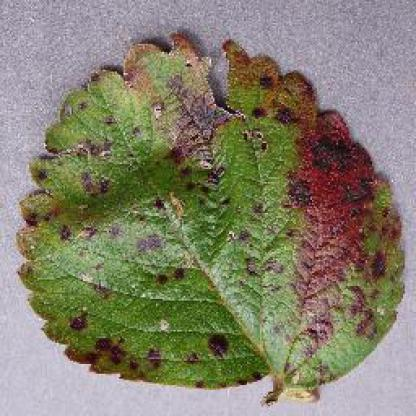leaf scorch: (12, 26, 410, 400)
